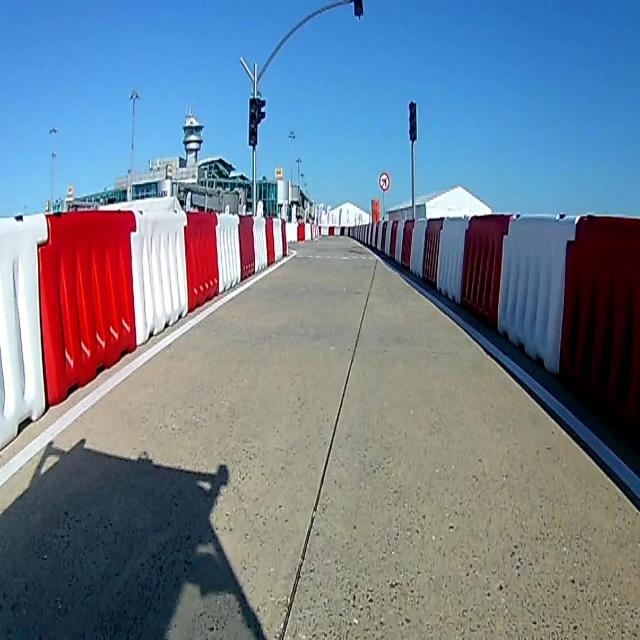soladonulmez: (378, 171, 390, 192)
